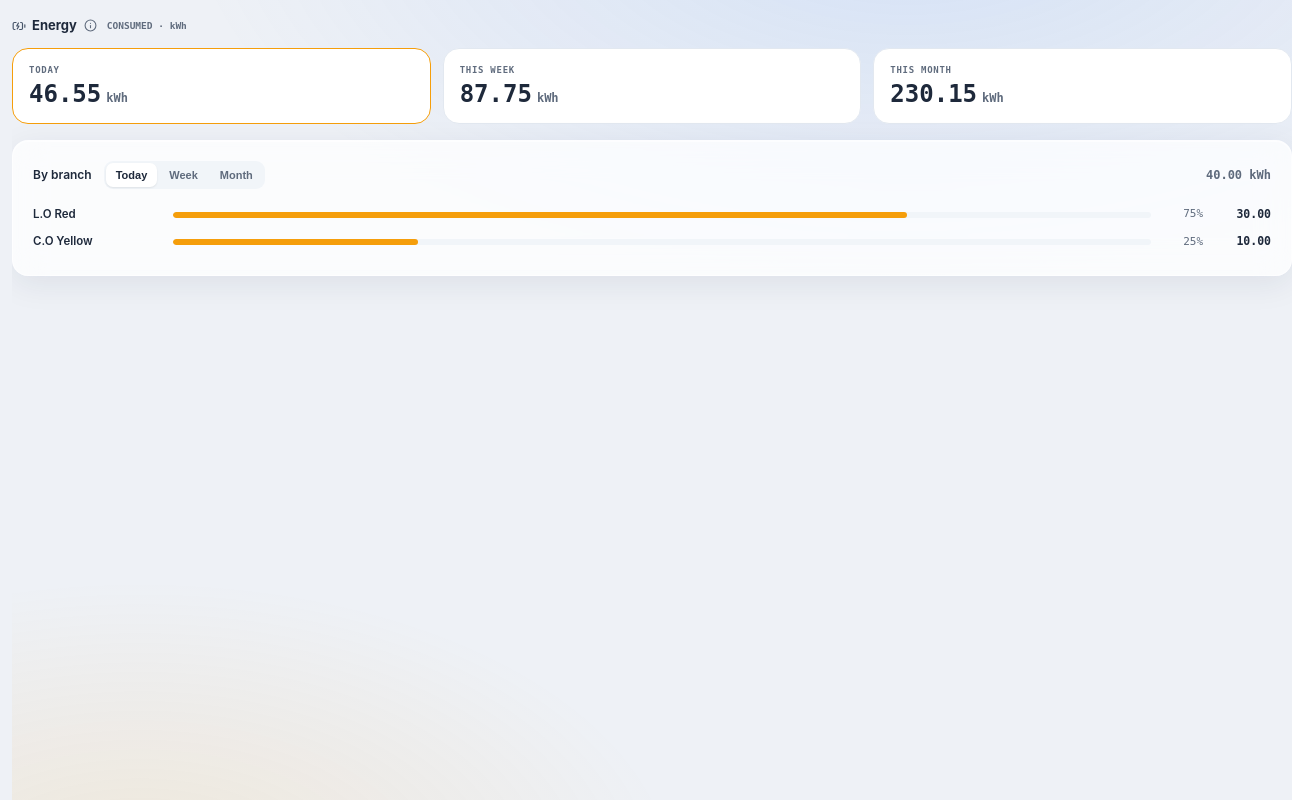
Test: EnergySection › switches the split to the accumulated week and month figures
The width and height of the screenshot is (1292, 800).
Expected: the text "40.00 kWh" is shown, top-left (1206, 166), bottom-right (1271, 184)
Click the button "Week" at [184, 175], box top-left (159, 163), bottom-right (208, 187)
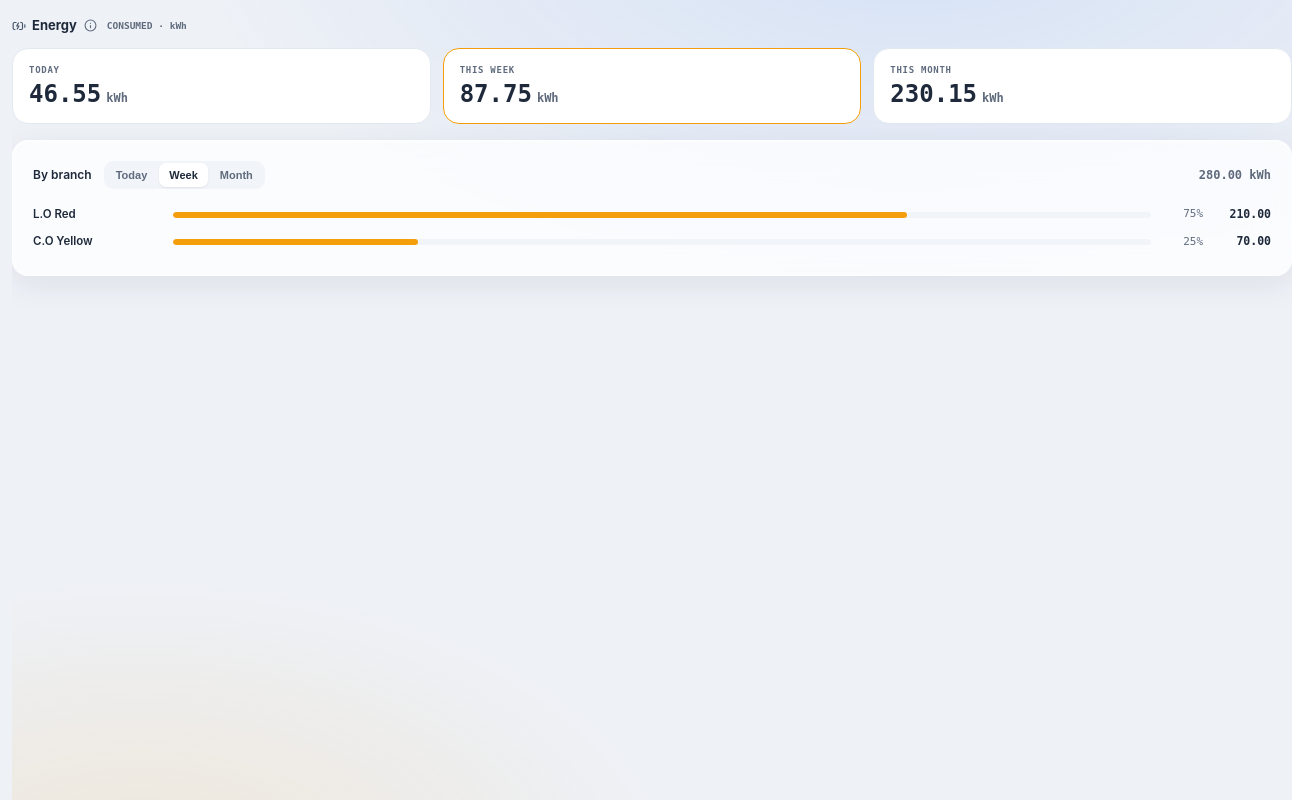
Expected: the text "280.00 kWh" is shown, top-left (1199, 166), bottom-right (1271, 184)
Expected: the text "70.00" is shown, top-left (1236, 234), bottom-right (1271, 248)
Click the button "Month" at [236, 175], box top-left (210, 163), bottom-right (263, 187)
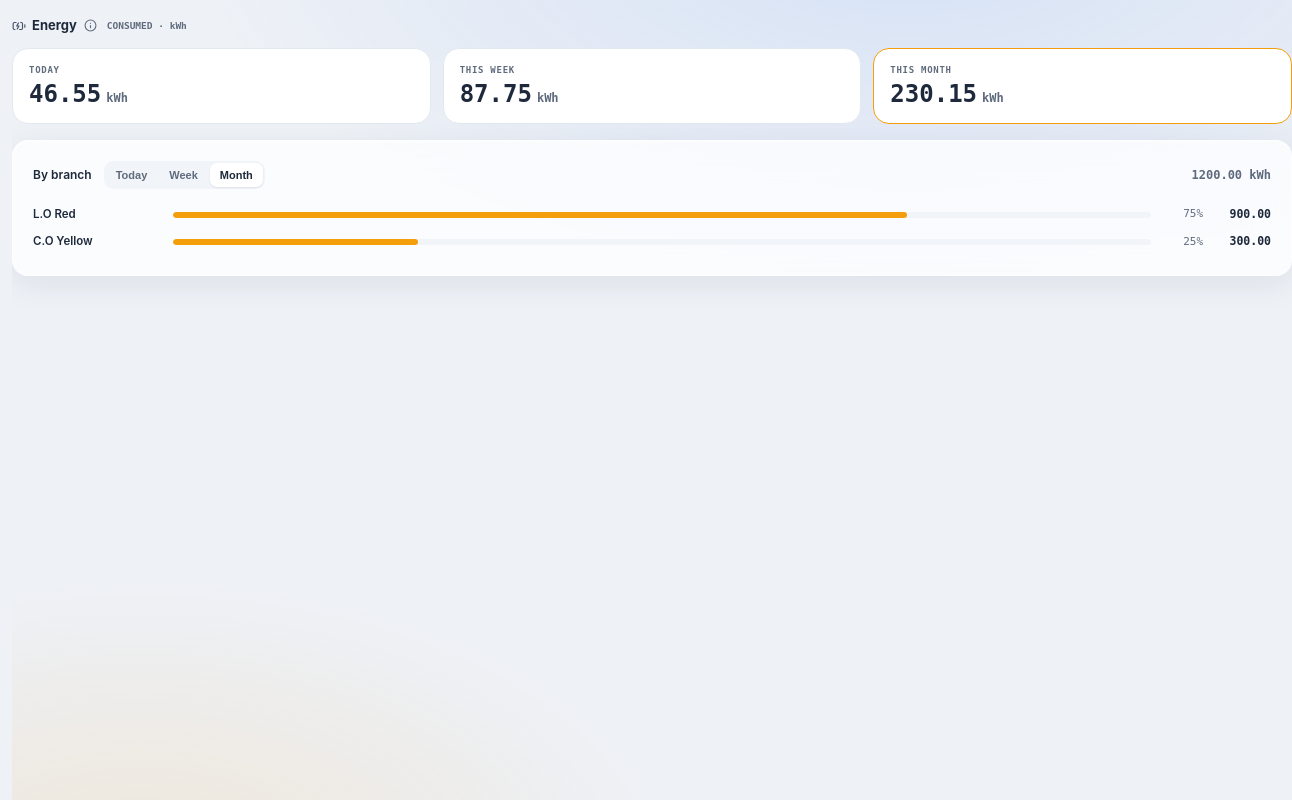
Expected: the text "1200.00 kWh" is shown, top-left (1192, 166), bottom-right (1271, 184)
Expected: the text "900.00" is shown, top-left (1230, 207), bottom-right (1271, 221)
